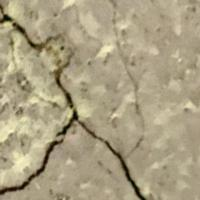crack: (3, 2, 150, 199)
